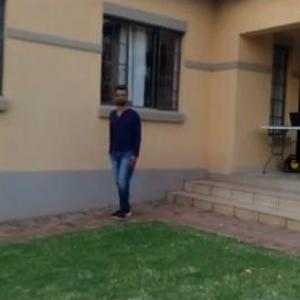follow: (106, 79, 150, 225)
